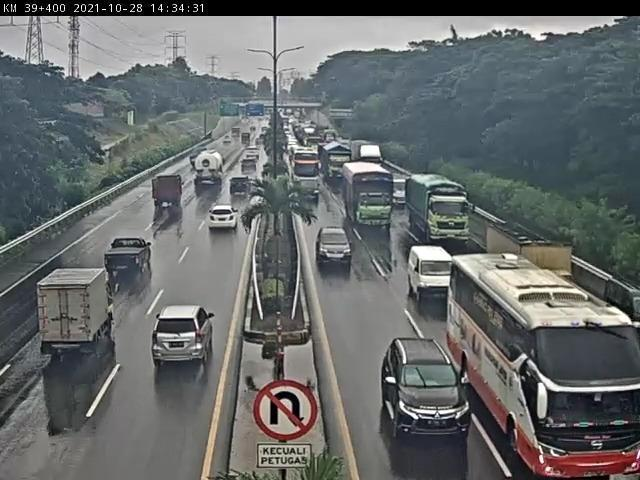bus: (446, 251, 640, 480)
car: (377, 340, 474, 443), (153, 305, 217, 367), (407, 245, 460, 307), (104, 236, 152, 275), (315, 225, 355, 270), (209, 203, 241, 232), (391, 172, 411, 208), (229, 173, 253, 195), (298, 177, 321, 199)
truck: (39, 268, 116, 355), (488, 222, 576, 286), (406, 176, 474, 247), (341, 161, 393, 226), (190, 151, 224, 191), (150, 175, 185, 212)
